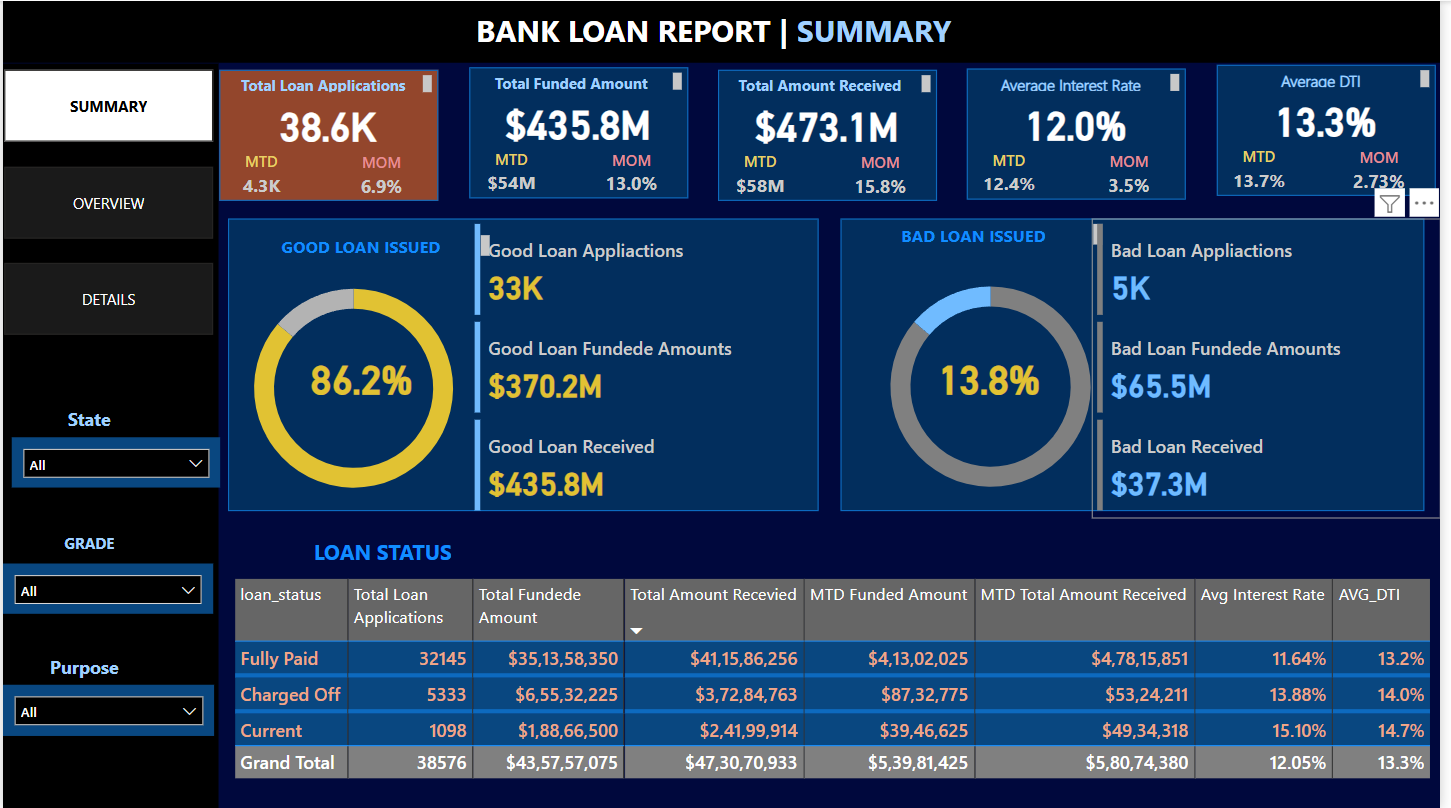

The dashboard page shown, as its layout file describes it:
{"tool":"powerbi","page":{"name":" SUMMARY","canvas":[1280,720],"ordinal":0},"visuals":[{"type":"shape","box":[0,0,1280,55],"z":0},{"type":"shape","box":[1081,56.7,195.4,117],"z":0,"group":"g5"},{"type":"shape","box":[414.9,59.1,195.4,117],"z":0,"group":"g2"},{"type":"shape","box":[858.8,59.6,195.4,117],"z":0,"group":"g4"},{"type":"shape","box":[636.7,60.9,195.4,117],"z":0,"group":"g3"},{"type":"shape","box":[193,61.5,195.4,117],"z":0,"group":"g1"},{"type":"shape","box":[0,55.5,192,665],"z":1000},{"type":"textbox","box":[416.2,3.6,448.8,48.3],"z":2000},{"type":"group","id":"g1","title":"Group 1","box":[191.8,61.5,196.6,119.4],"z":3000},{"type":"group","id":"g2","title":"Group 1","box":[413.7,59.1,196.6,119.4],"z":4000},{"type":"card","fields":{"Values":["bank_loan_data.AVG_DTI"]},"box":[1081,79.6,193.8,50.7],"z":4000,"group":"g5"},{"type":"card","fields":{"Values":["bank_loan_data.Total Fundede Amount"]},"box":[414.9,82,193.8,50.7],"z":4000,"group":"g2"},{"type":"card","fields":{"Values":["bank_loan_data.Avg Interest Rate"]},"box":[858.8,82.5,193.8,50.7],"z":4000,"group":"g4"},{"type":"card","fields":{"Values":["bank_loan_data.Total Amount Recevied"]},"box":[636.7,83.8,193.8,50.7],"z":4000,"group":"g3"},{"type":"card","fields":{"Values":["bank_loan_data.Total Loan Applications"]},"box":[193,84.4,193.8,50.7],"z":4000,"group":"g1"},{"type":"textbox","box":[1079.8,56.7,195.4,25.3],"z":5000,"group":"g5"},{"type":"textbox","box":[413.7,59.1,195.4,25.3],"z":5000,"group":"g2"},{"type":"textbox","box":[857.6,59.6,195.4,25.3],"z":5000,"group":"g4"},{"type":"textbox","box":[635.5,60.9,195.4,25.3],"z":5000,"group":"g3"},{"type":"textbox","box":[191.8,61.5,195.4,25.3],"z":5000,"group":"g1"},{"type":"shape","box":[200.3,194.2,526,260.6],"z":5000},{"type":"card","title":"MTD","fields":{"Values":["bank_loan_data.MTD AVG_DTI"]},"box":[1081.1,129.6,75,43.3],"z":6000,"group":"g5"},{"type":"card","title":"MTD","fields":{"Values":["bank_loan_data.MTD Funded Amount"]},"box":[415,132,75,43.3],"z":6000,"group":"g2"},{"type":"card","title":"MTD","fields":{"Values":["bank_loan_data.MTD AVG_IN_rate"]},"box":[858.9,132.5,75,43.3],"z":6000,"group":"g4"},{"type":"card","title":"MTD","fields":{"Values":["bank_loan_data.MTD Total Amount Received"]},"box":[636.8,133.8,75,43.3],"z":6000,"group":"g3"},{"type":"card","title":"MTD","fields":{"Values":["bank_loan_data.MTD Loan Applications"]},"box":[193.1,134.4,75,43.3],"z":6000,"group":"g1"},{"type":"card","fields":{"Values":["bank_loan_data.Good Loan %"]},"box":[252.1,309.6,135.6,51.1],"z":6000},{"type":"card","title":"MOM","fields":{"Values":["bank_loan_data.MOM AVG_DTI"]},"box":[1177.8,129.7,95.3,47.1],"z":7000,"group":"g5"},{"type":"card","title":"MOM","fields":{"Values":["bank_loan_data.MOM Funded Amount"]},"box":[511.7,132.1,95.3,47.1],"z":7000,"group":"g2"},{"type":"card","title":"MOM","fields":{"Values":["bank_loan_data.MOM AVG_INTEREST_RATE"]},"box":[955.6,132.6,95.3,47.1],"z":7000,"group":"g4"},{"type":"card","title":"MOM","fields":{"Values":["bank_loan_data.MOM Amount Received"]},"box":[733.5,133.9,95.3,47.1],"z":7000,"group":"g3"},{"type":"card","title":"MOM","fields":{"Values":["bank_loan_data.MOM loan applications"]},"box":[289.8,134.5,95.3,47.1],"z":7000,"group":"g1"},{"type":"textbox","box":[4.8,355.9,144.8,32.6],"z":7000},{"type":"group","id":"g3","title":"Group 1","box":[635.5,60.9,196.9,120.5],"z":8000},{"type":"group","id":"g4","title":"Group 1","box":[857.6,59.6,196.9,120.5],"z":9000},{"type":"group","id":"g5","title":"Group 1","box":[1079.8,56.7,196.6,120.6],"z":10000},{"type":"shape","box":[745.6,194.2,520,260.6],"z":11000},{"type":"donutChart","fields":{"Category":["bank_loan_data.Good Loan vs Bad Loan"],"Y":["bank_loan_data.Total Loan Applications"]},"box":[187,229.2,250.9,231.6],"z":12000},{"type":"cardVisual","fields":{"Data":["bank_loan_data.Good Loan Appliactions","bank_loan_data.Good Loan Fundede Amounts","bank_loan_data.Good Loan Amounts Received"]},"box":[415,194.2,310.1,266.6],"z":13000},{"type":"donutChart","fields":{"Category":["bank_loan_data.Good Loan vs Bad Loan"],"Y":["bank_loan_data.Total Loan Applications"]},"box":[753.1,226.6,252.1,233],"z":14000},{"type":"card","fields":{"Values":["bank_loan_data.Bad Loan %"]},"box":[810.6,309.6,135.6,51.1],"z":15000},{"type":"textbox","box":[752.8,194.2,231.6,29],"z":16000},{"type":"cardVisual","fields":{"Data":["bank_loan_data.Bad Loan Appliactions","bank_loan_data.Bad Loan Fundede Amounts","bank_loan_data.Bad Loan Received"]},"box":[970,194.2,310.1,266.6],"z":17000},{"type":"tableEx","fields":{"Values":["bank_loan_data.loan_status","bank_loan_data.Total Loan Applications","bank_loan_data.Total Fundede Amount","bank_loan_data.Total Amount Recevied","bank_loan_data.MTD Funded Amount","bank_loan_data.MTD Total Amount Received","bank_loan_data.Avg Interest Rate","bank_loan_data.AVG_DTI"]},"box":[200.3,510.3,1079.8,197.9],"z":18000},{"type":"textbox","box":[209.9,472.9,255.8,50.7],"z":19000},{"type":"slicer","fields":{"Values":["bank_loan_data.sub_grade"]},"box":[0,500.7,187,44.6],"z":20000},{"type":"slicer","fields":{"Values":["bank_loan_data.address_state"]},"box":[7.2,388.5,185.8,44.6],"z":21000},{"type":"slicer","fields":{"Values":["bank_loan_data.purpose"]},"box":[0,609.3,188.2,45.8],"z":22000},{"type":"textbox","box":[206.6,204.2,231.6,29],"z":23000},{"type":"textbox","box":[4.8,468.1,144.8,32.6],"z":24000},{"type":"textbox","box":[0,576.7,144.8,32.6],"z":25000},{"type":"pageNavigator","box":[1.2,61.5,187,237.7],"z":26000}]}

Visuals, with their boxes in screenshot pixels (x1, y1, x2, y2), scaled from the page's 1280x720 canvas onto the 1451x808 screenshot:
shape: (left=0, top=0, right=1450, bottom=62)
shape: (left=1225, top=64, right=1447, bottom=195)
shape: (left=470, top=66, right=692, bottom=198)
shape: (left=974, top=67, right=1195, bottom=198)
shape: (left=722, top=68, right=943, bottom=200)
shape: (left=219, top=69, right=440, bottom=200)
shape: (left=0, top=62, right=218, bottom=807)
textbox: (left=472, top=4, right=981, bottom=58)
"Group 1" group: (left=217, top=69, right=440, bottom=203)
"Group 1" group: (left=469, top=66, right=692, bottom=200)
card - bank_loan_data.AVG_DTI: (left=1225, top=89, right=1445, bottom=146)
card - bank_loan_data.Total Fundede Amount: (left=470, top=92, right=690, bottom=149)
card - bank_loan_data.Avg Interest Rate: (left=974, top=93, right=1193, bottom=149)
card - bank_loan_data.Total Amount Recevied: (left=722, top=94, right=941, bottom=151)
card - bank_loan_data.Total Loan Applications: (left=219, top=95, right=438, bottom=152)
textbox: (left=1224, top=64, right=1446, bottom=92)
textbox: (left=469, top=66, right=690, bottom=95)
textbox: (left=972, top=67, right=1194, bottom=95)
textbox: (left=720, top=68, right=942, bottom=97)
textbox: (left=217, top=69, right=439, bottom=97)
shape: (left=227, top=218, right=823, bottom=510)
"MTD" card: (left=1226, top=145, right=1311, bottom=194)
"MTD" card: (left=470, top=148, right=555, bottom=197)
"MTD" card: (left=974, top=149, right=1059, bottom=197)
"MTD" card: (left=722, top=150, right=807, bottom=199)
"MTD" card: (left=219, top=151, right=304, bottom=199)
card - bank_loan_data.Good Loan %: (left=286, top=347, right=439, bottom=405)
"MOM" card: (left=1335, top=146, right=1443, bottom=198)
"MOM" card: (left=580, top=148, right=688, bottom=201)
"MOM" card: (left=1083, top=149, right=1191, bottom=202)
"MOM" card: (left=831, top=150, right=940, bottom=203)
"MOM" card: (left=329, top=151, right=437, bottom=204)
textbox: (left=5, top=399, right=170, bottom=436)
"Group 1" group: (left=720, top=68, right=944, bottom=204)
"Group 1" group: (left=972, top=67, right=1195, bottom=202)
"Group 1" group: (left=1224, top=64, right=1447, bottom=199)
shape: (left=845, top=218, right=1435, bottom=510)
donutChart - bank_loan_data.Good Loan vs Bad Loan x bank_loan_data.Total Loan Applications: (left=212, top=257, right=496, bottom=517)
cardVisual - bank_loan_data.Good Loan Appliactions x bank_loan_data.Good Loan Fundede Amounts: (left=470, top=218, right=822, bottom=517)
donutChart - bank_loan_data.Good Loan vs Bad Loan x bank_loan_data.Total Loan Applications: (left=854, top=254, right=1139, bottom=516)
card - bank_loan_data.Bad Loan %: (left=919, top=347, right=1073, bottom=405)
textbox: (left=853, top=218, right=1116, bottom=250)
cardVisual - bank_loan_data.Bad Loan Appliactions x bank_loan_data.Bad Loan Fundede Amounts: (left=1100, top=218, right=1450, bottom=517)
tableEx - bank_loan_data.loan_status x bank_loan_data.Total Loan Applications: (left=227, top=573, right=1450, bottom=795)
textbox: (left=238, top=531, right=528, bottom=588)
slicer - bank_loan_data.sub_grade: (left=0, top=562, right=212, bottom=612)
slicer - bank_loan_data.address_state: (left=8, top=436, right=219, bottom=486)
slicer - bank_loan_data.purpose: (left=0, top=684, right=213, bottom=735)
textbox: (left=234, top=229, right=497, bottom=262)
textbox: (left=5, top=525, right=170, bottom=562)
textbox: (left=0, top=647, right=164, bottom=684)
pageNavigator: (left=1, top=69, right=213, bottom=336)
